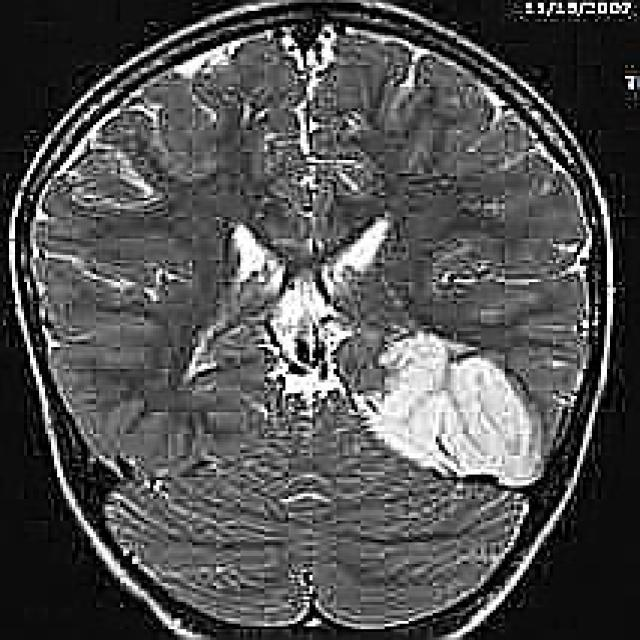Tumor-Cell: (357, 312, 553, 503)
